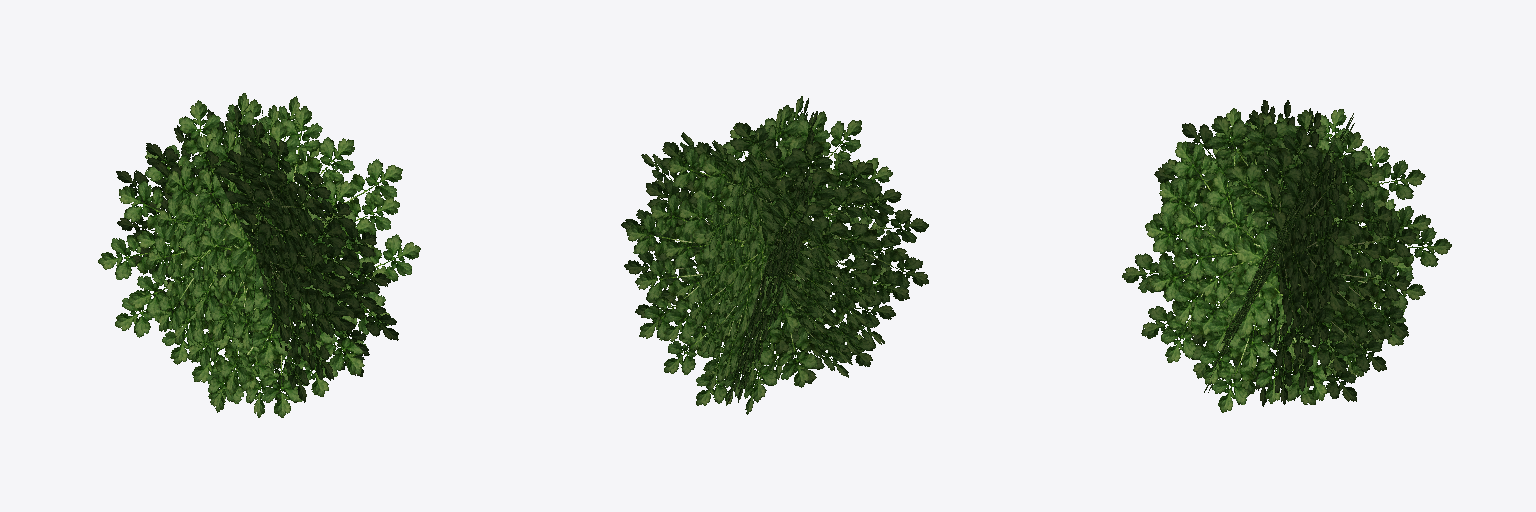
3 views of the same model, side by side, from view 1: azimuth 30°, elevation 25°; view 2: azimuth 150°, elevation 25°; view 3: azimuth 270°, elevation 25° (orthographic).
Visible parts, largest first — view 1: mesh0_mesh0.006; view 2: mesh0_mesh0.006; view 3: mesh0_mesh0.006.
Part boxes in pixels (bbox=[...]): mesh0_mesh0.006: bbox=[98, 93, 420, 417]; mesh0_mesh0.006: bbox=[621, 96, 928, 414]; mesh0_mesh0.006: bbox=[1122, 100, 1451, 412].
Bounding box in the file's own units: 73.21 × 74.51 × 74.43.
1 materials, 1 textured.